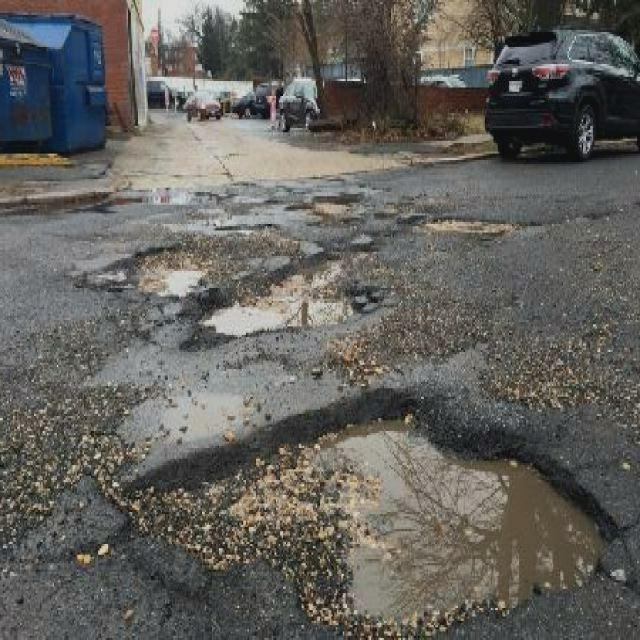Pothole: (115, 382, 623, 634), (185, 245, 388, 356), (104, 239, 218, 299), (428, 211, 530, 233), (310, 192, 354, 215)
